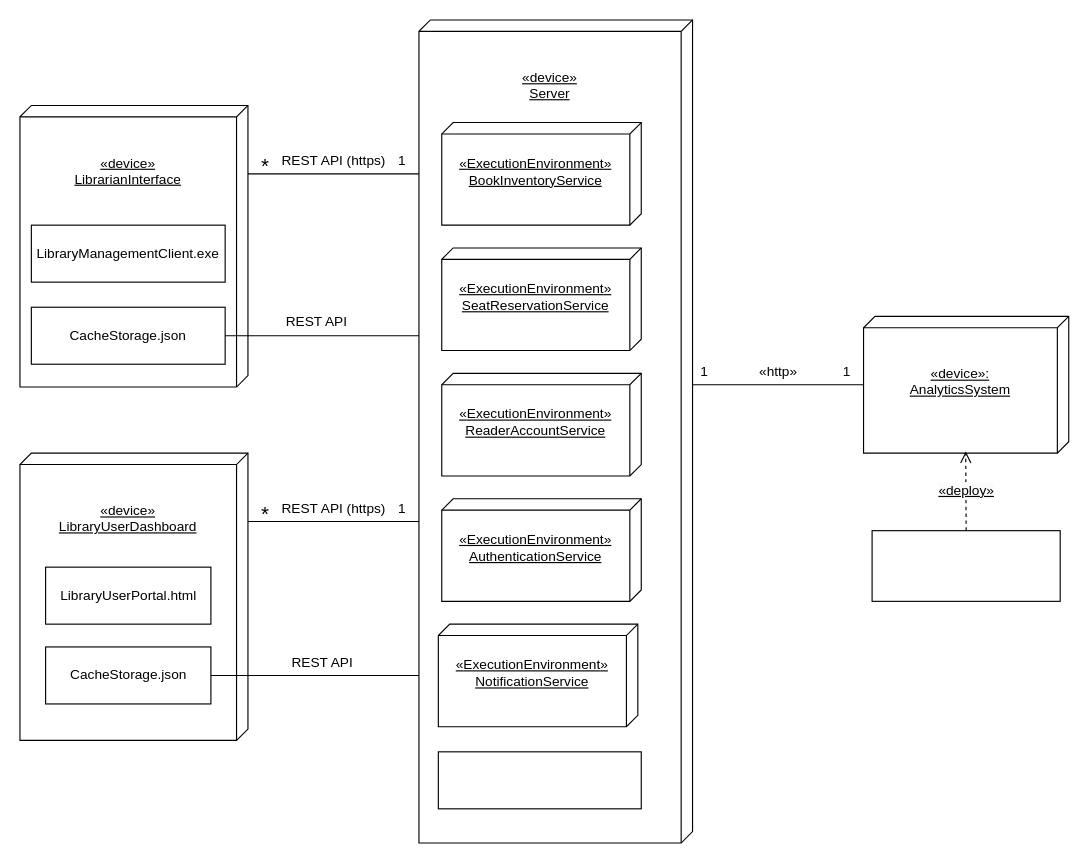
The diagram is 1089 pixels wide and 863 high, and some of its shapes have lost their labels. The centre of each missing label's shape, as x and y in pixels:
"«artifact» AnalyticsDatabase" belongs at point (965, 565).
"«artifact» DatabaseInstance" belongs at point (539, 780).
